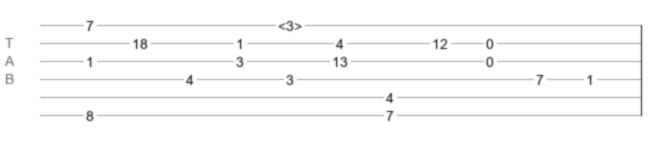0: (486, 54, 494, 64), (486, 36, 494, 46)
1: (86, 54, 94, 64), (236, 36, 244, 46), (586, 72, 594, 82)
12: (432, 36, 448, 46)
13: (332, 54, 348, 64)
18: (132, 36, 148, 46)
3: (236, 54, 244, 64), (286, 72, 294, 82)
4: (186, 72, 194, 82), (336, 36, 344, 46), (386, 90, 394, 100)
7: (86, 18, 94, 28), (386, 108, 394, 118), (536, 72, 544, 82)
8: (86, 108, 94, 118)
harmonic: (278, 18, 302, 28)
